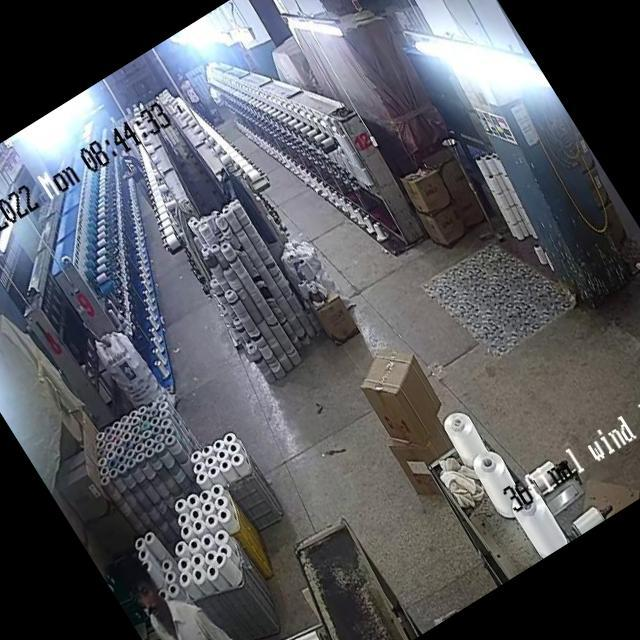person: (119, 536, 288, 640), (112, 140, 160, 202), (170, 66, 206, 114)
